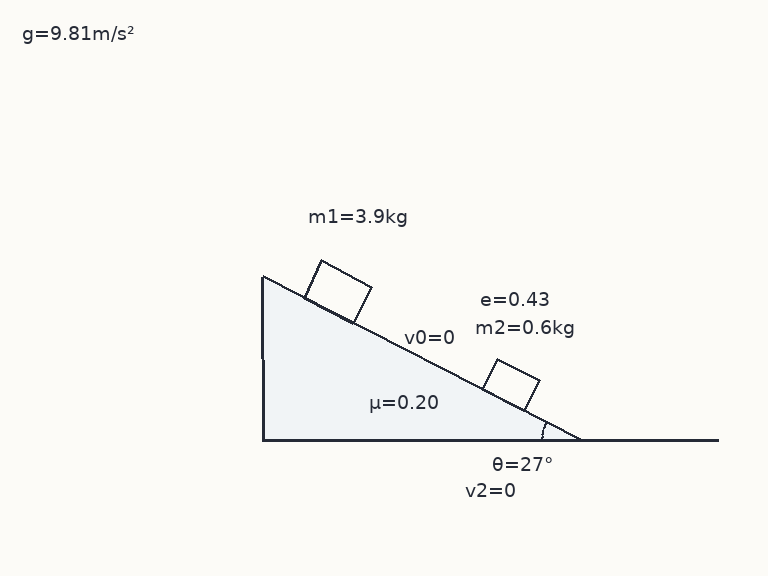block: (301, 259, 373, 325), (480, 357, 541, 412)
ramp: (260, 275, 584, 442)
